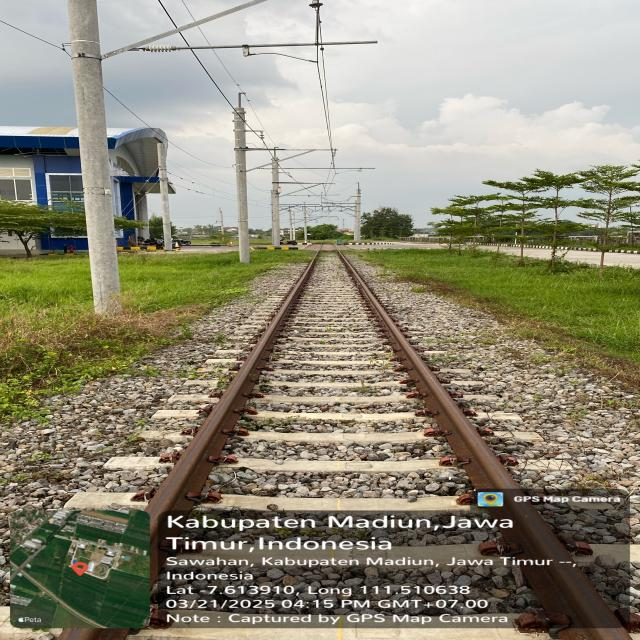rail-detection: (339, 255, 629, 640), (146, 260, 315, 584)
